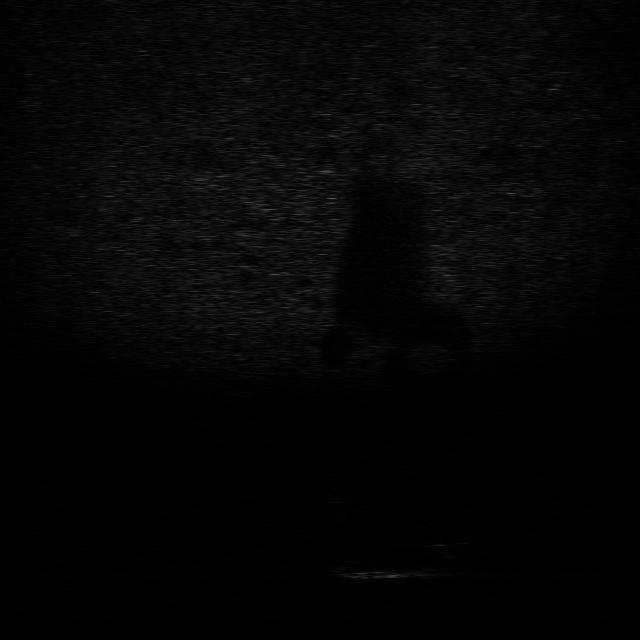ball: (315, 484, 355, 508)
metal bucket: (332, 556, 433, 584)
tyre: (400, 523, 465, 552)
